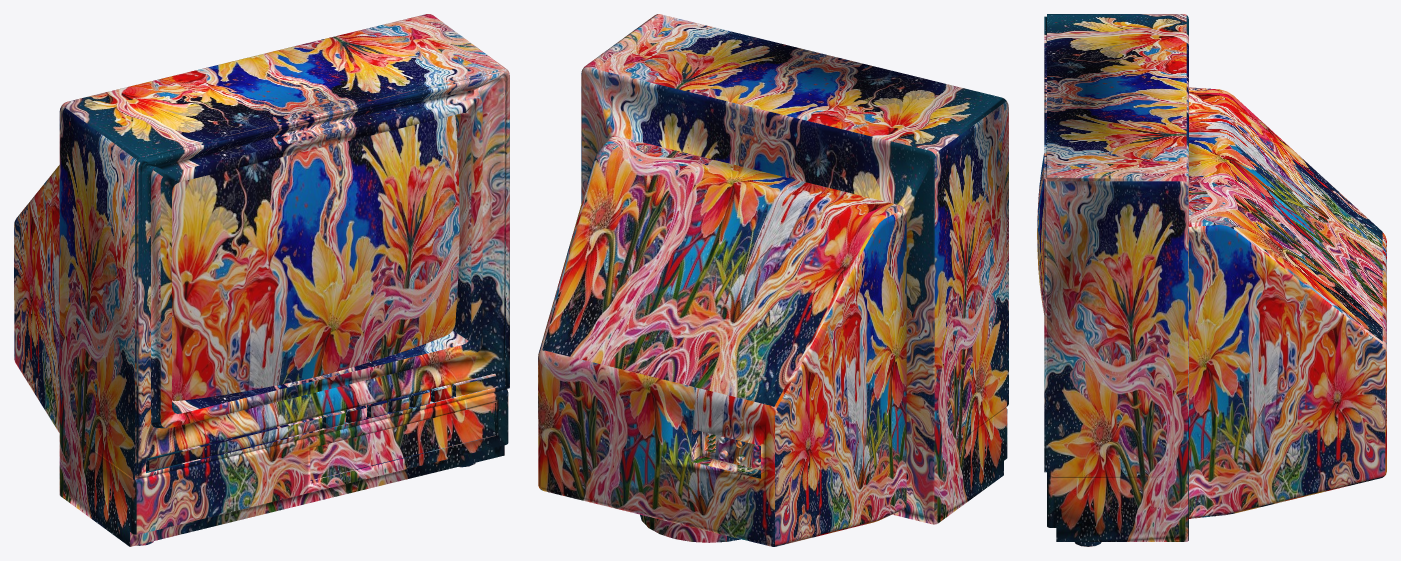
The model's file is ph_television_02.glb.
3 views of the same model, side by side, from view 1: azimuth 30°, elevation 25°; view 2: azimuth 150°, elevation 25°; view 3: azimuth 270°, elevation 25° (orthographic). The views are drawn at different scales.
Parts seen in each view (by area): view 1: A; view 2: A; view 3: A.
Boxes of the visible parts, <box> form: A: <box>14,14,509,546</box>; A: <box>538,14,1008,546</box>; A: <box>1037,14,1386,546</box>.
Size of the model in its own units: 1.94 by 2 by 1.7.
Materials: 1 (1 with a texture image).
